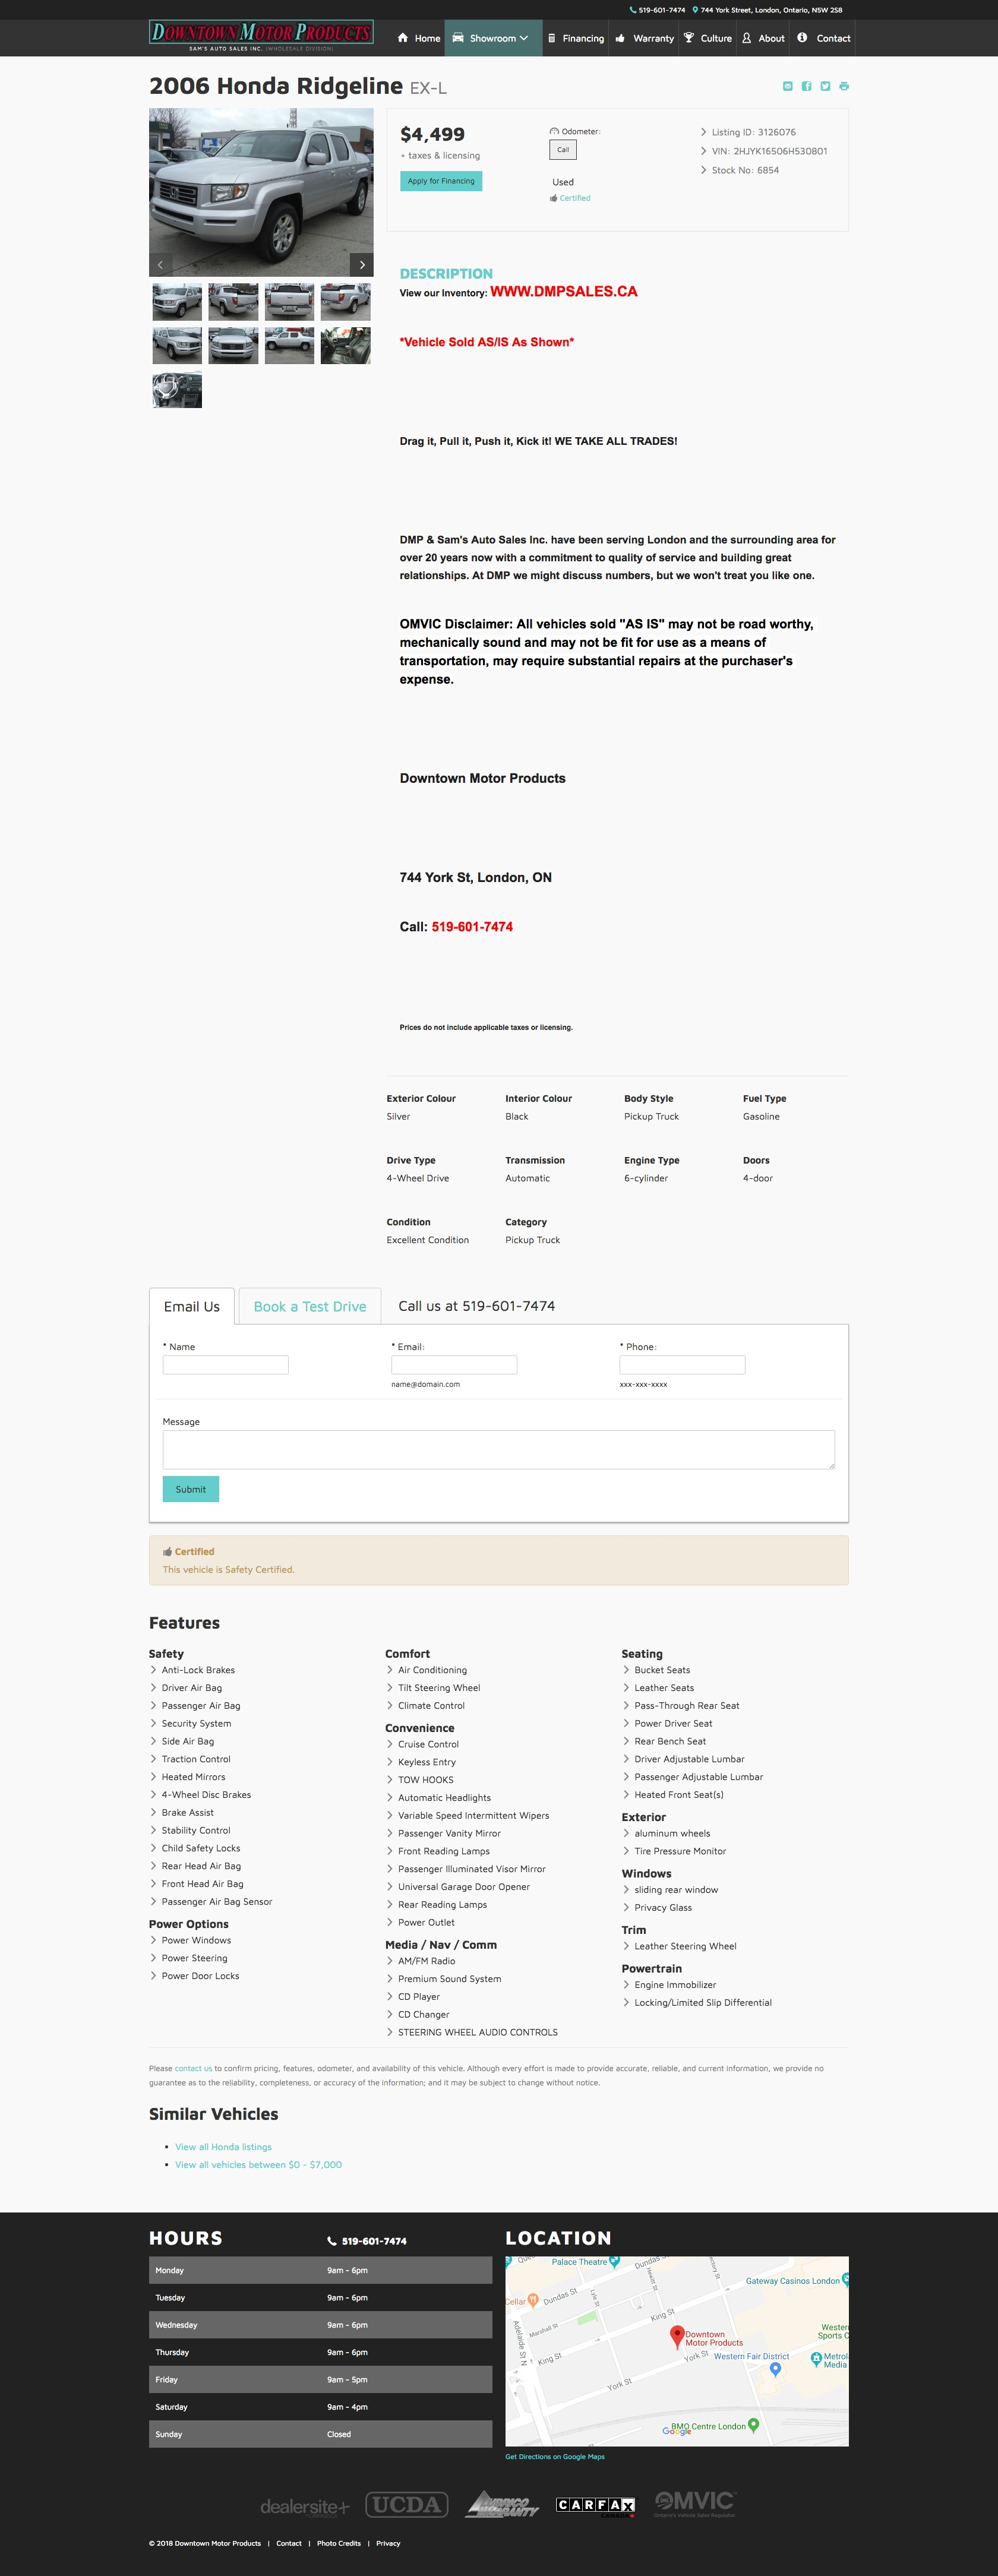car: (350, 253, 375, 278)
